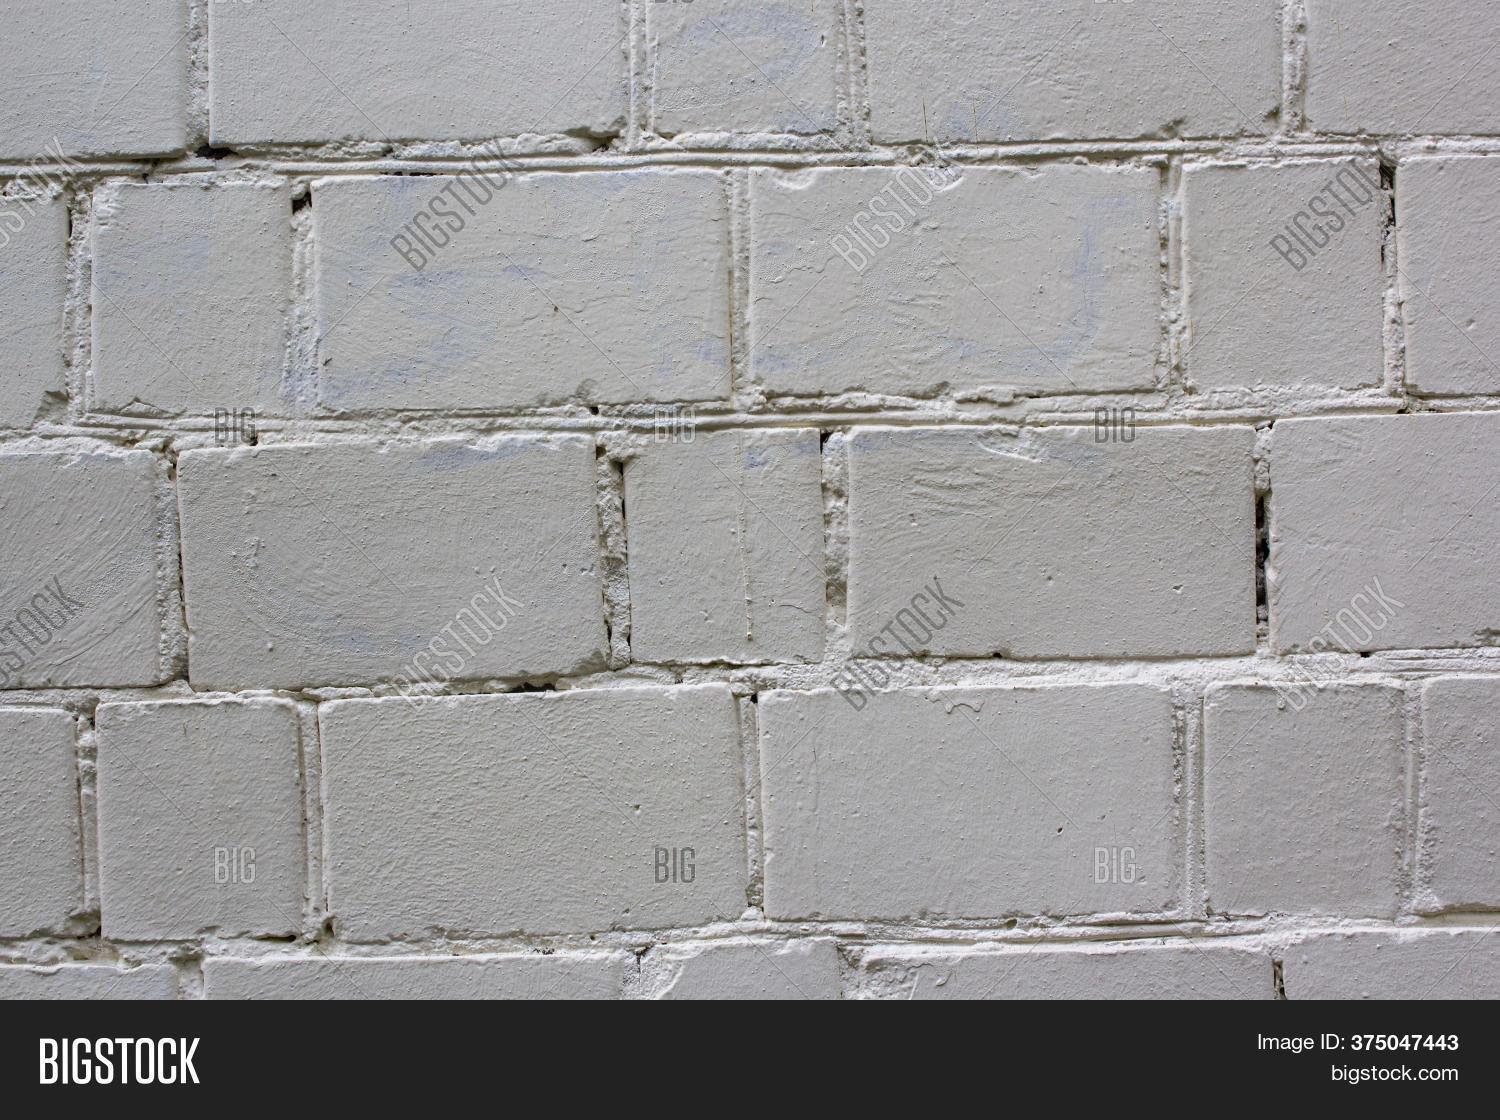Bricks: (326, 704, 745, 931), (746, 164, 1155, 388), (178, 453, 585, 679), (766, 698, 1185, 914), (318, 178, 719, 400), (848, 433, 1253, 640), (226, 0, 619, 145), (860, 0, 1271, 132), (1271, 418, 1500, 640), (98, 704, 306, 940), (626, 440, 827, 668), (84, 180, 273, 405), (1186, 168, 1379, 388), (1213, 686, 1399, 911), (0, 448, 155, 685), (0, 0, 195, 165), (1313, 0, 1500, 131), (1406, 160, 1500, 386), (648, 15, 827, 132), (6, 708, 81, 939), (1426, 680, 1500, 906), (0, 188, 66, 416)
